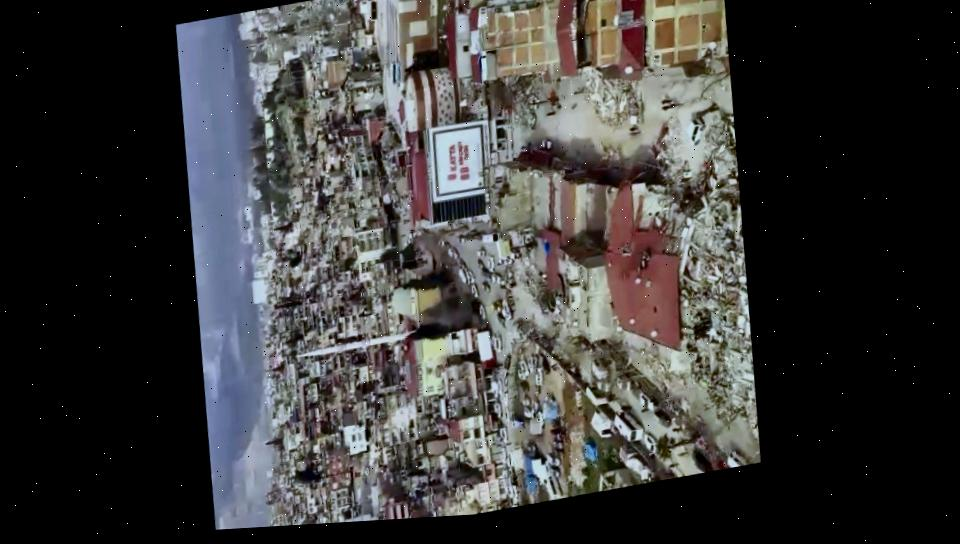kapali: (553, 77, 653, 180)
